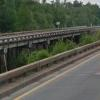Bridge: (5, 19, 94, 67)
